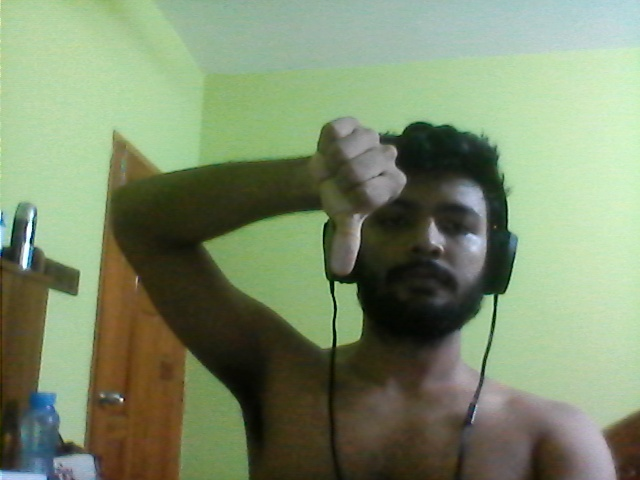No: (301, 109, 407, 293)
